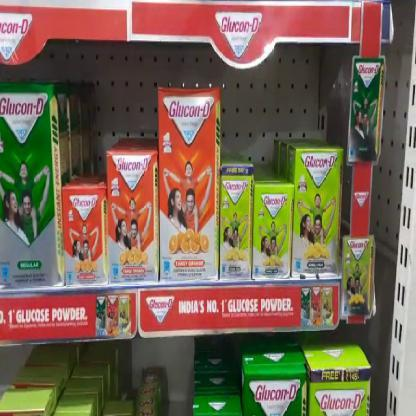Glucon D Nimbu Pani 1-KG: (294, 149, 338, 272)
Glucon D Regular 1-KG: (0, 88, 59, 287)
Glucon D Tangy orange 1-KG: (158, 87, 216, 283), (109, 154, 157, 284)
